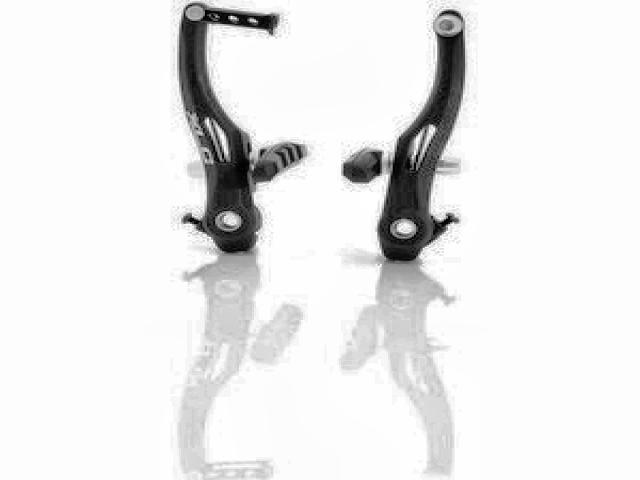rim_brake: (171, 0, 470, 264)
